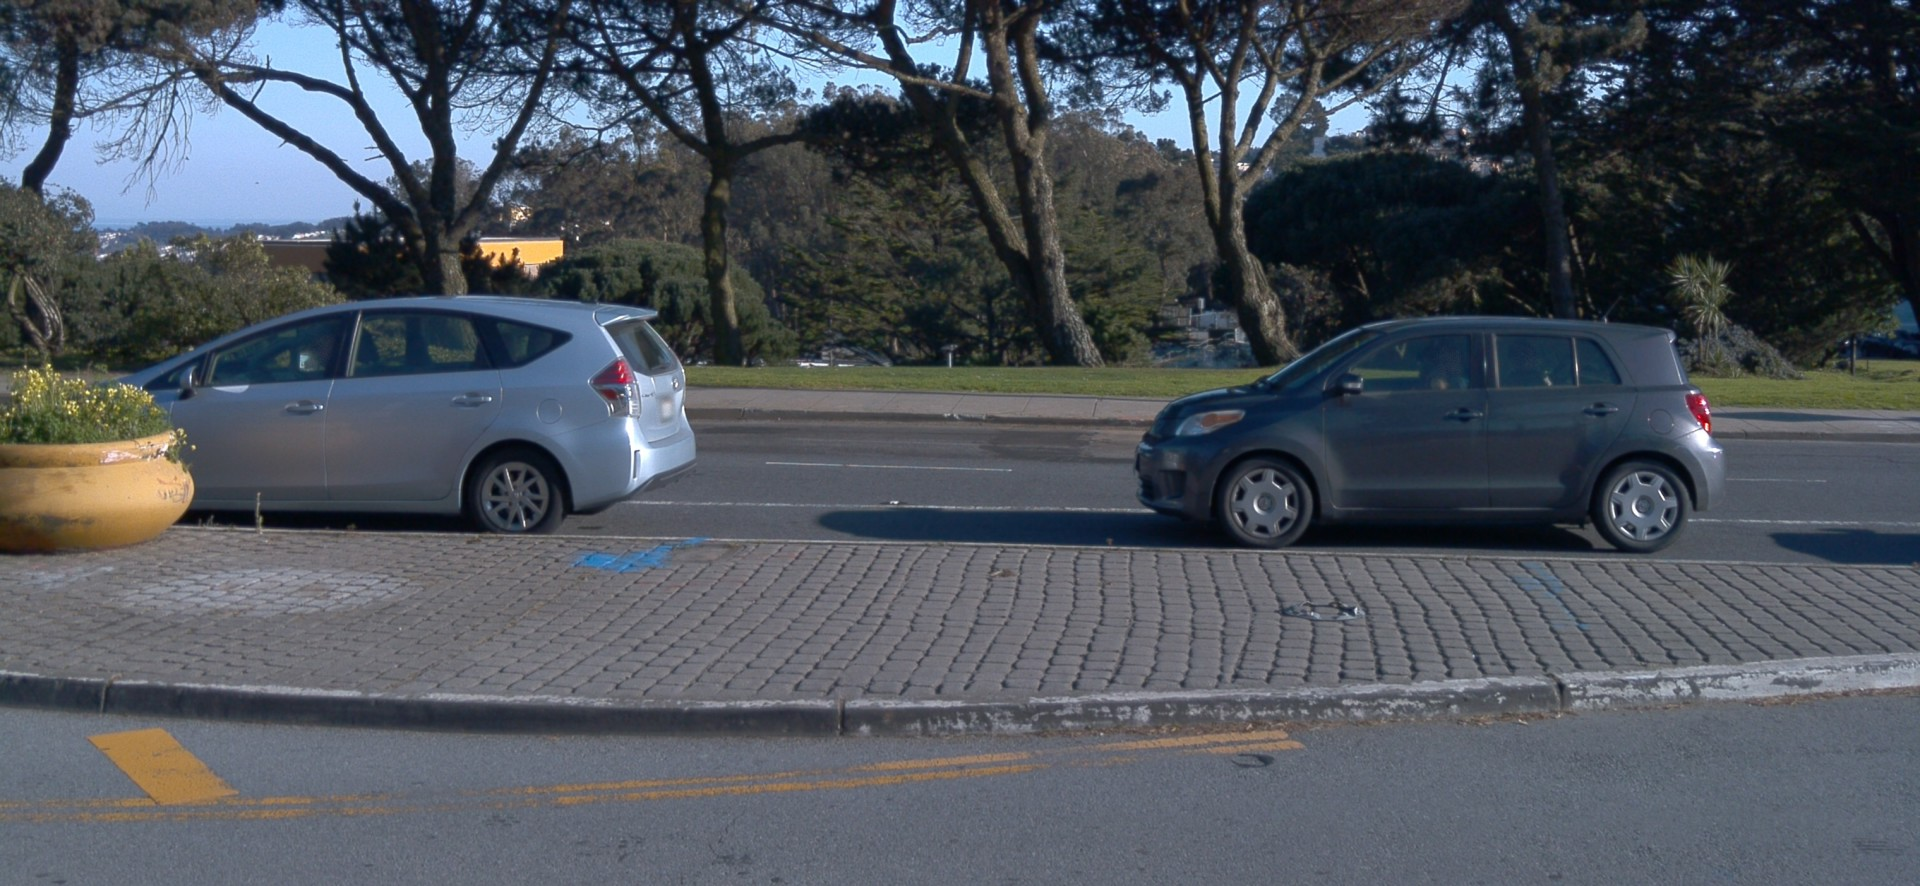TYPE_VEHICLE: (77, 292, 702, 535), (1128, 315, 1731, 554), (1853, 287, 1918, 336), (1857, 326, 1920, 363), (1837, 333, 1852, 352)
